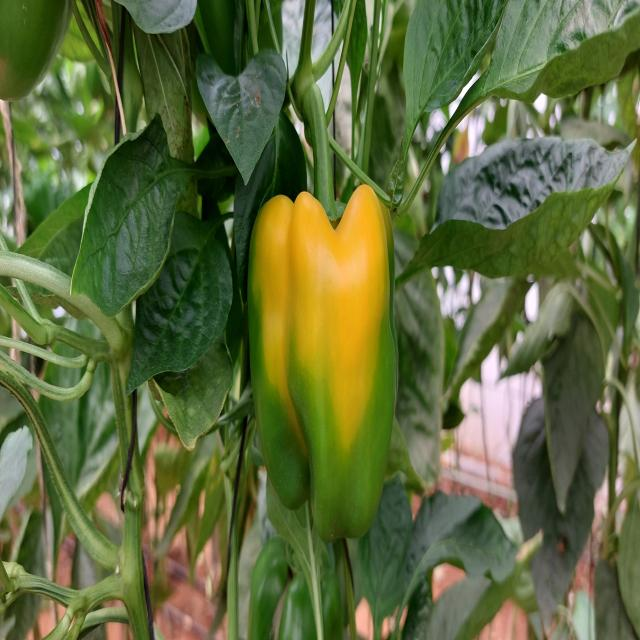GreenishYellow--Can-be-Harvested: (245, 170, 408, 546)
